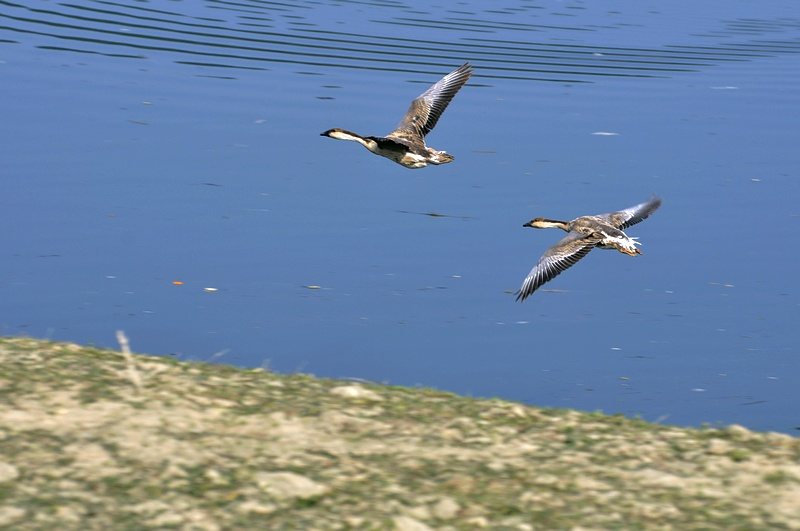bird: (316, 63, 478, 169), (511, 193, 662, 302)
